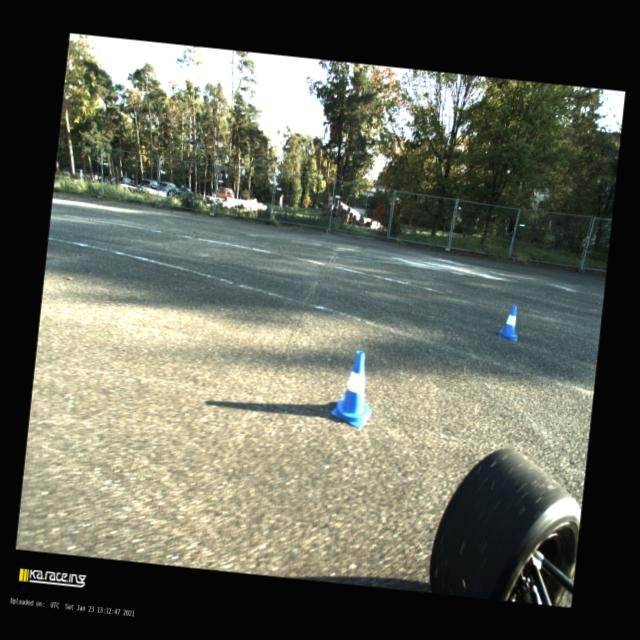blue_cone: (328, 347, 378, 430), (497, 303, 521, 342)
